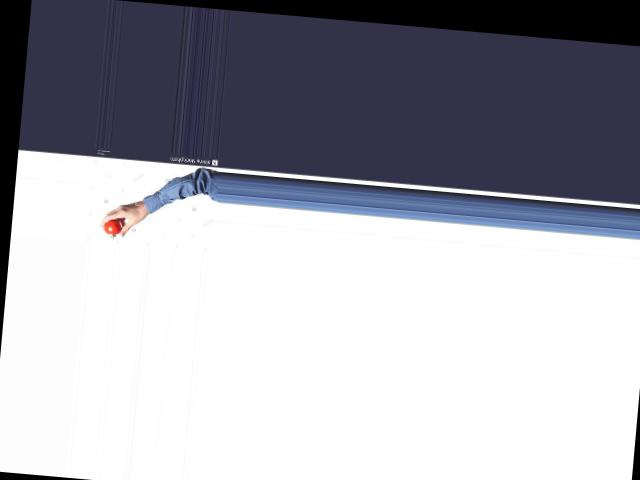tomato: (103, 219, 121, 234)
